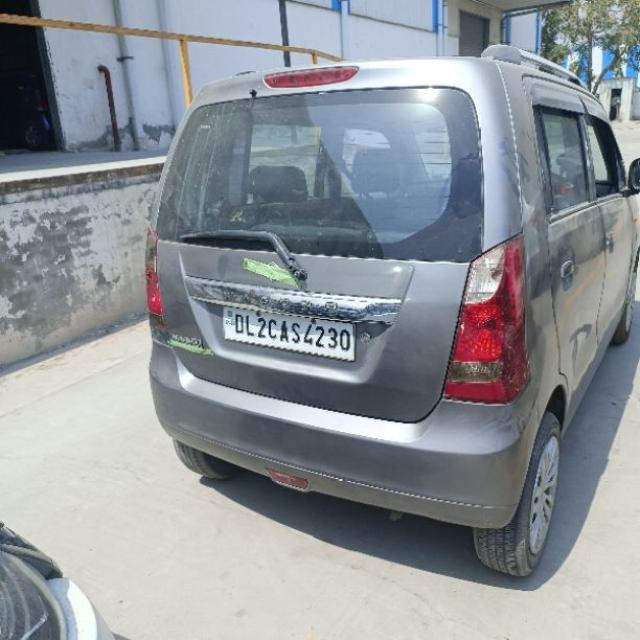license_plate: (220, 304, 356, 362)
